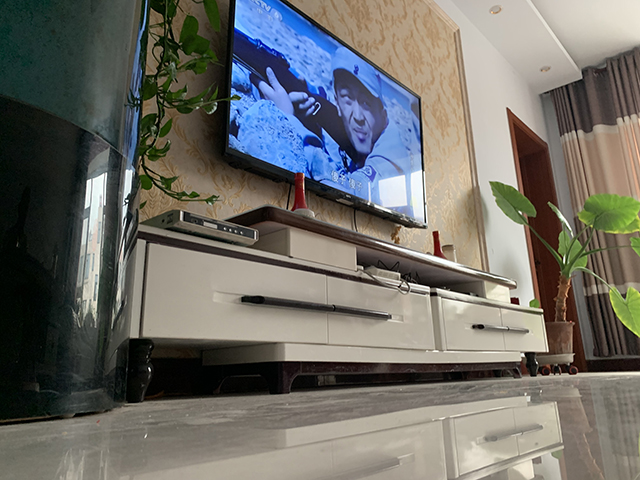cabinet: (110, 202, 551, 404)
curtain: (548, 43, 640, 359)
